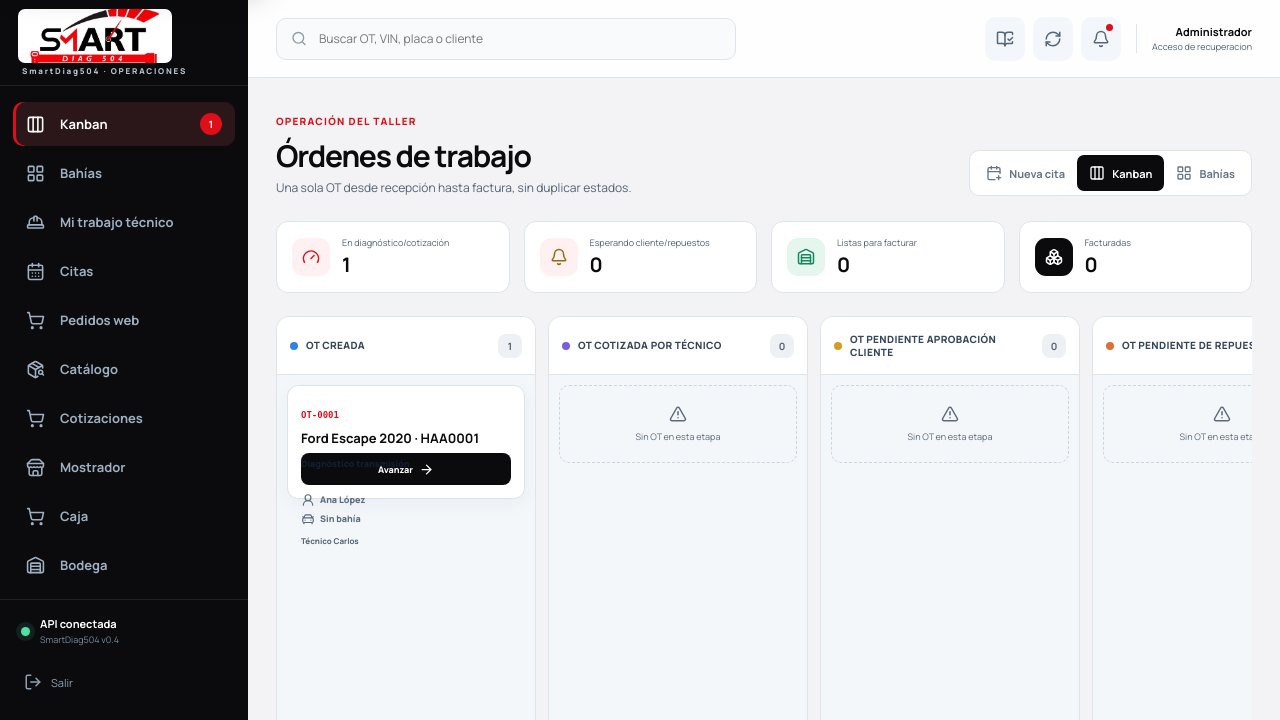
Test: SmartDiag504 operations › shows a separate counter sales workflow
What coordinates should you click on to do the following:
click the button "Mostrador"
I would click on:
 (124, 467)
Its box is x1=13 y1=445 x2=235 y2=489.
(page scrolled)
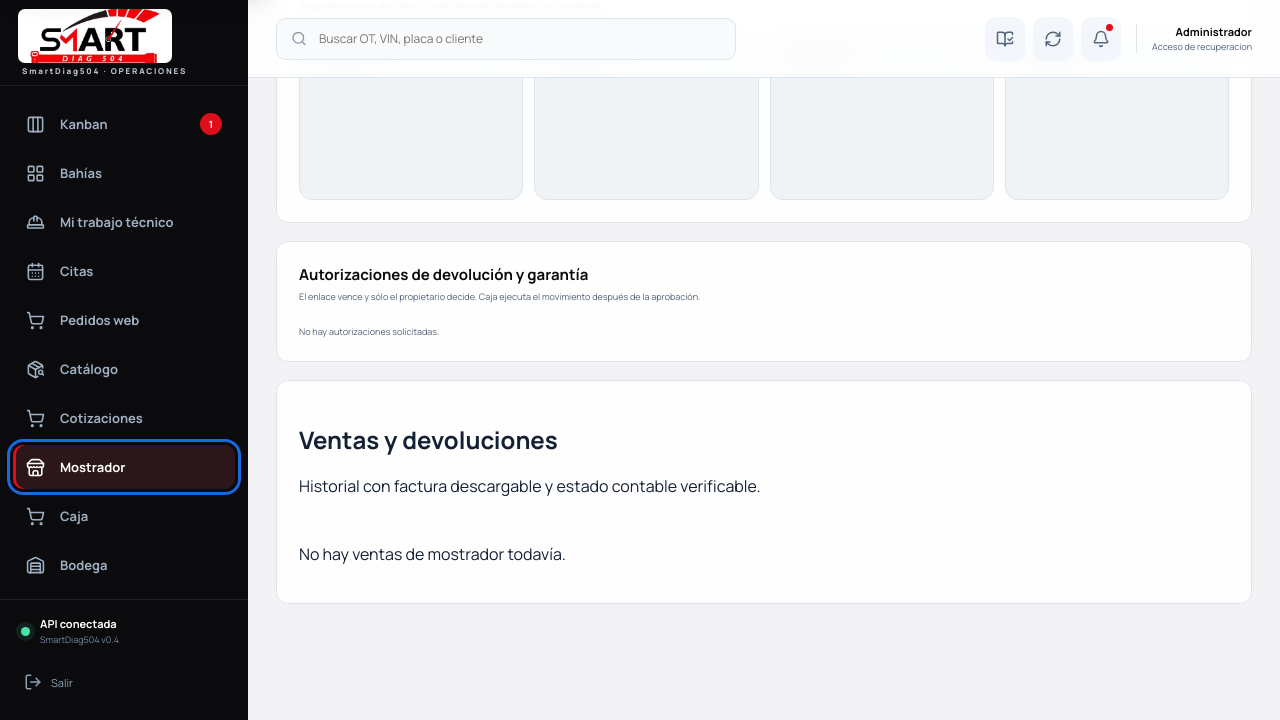
Check: the heading "Ventas y devoluciones" is shown, box x1=299 y1=422 x2=558 y2=456
